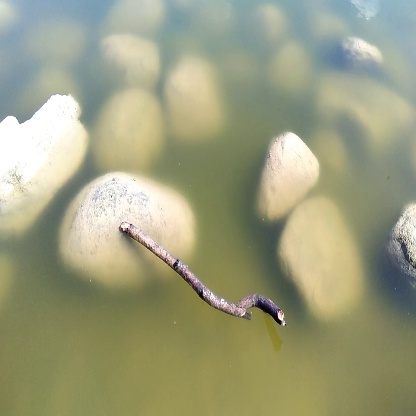branch: (119, 216, 291, 330)
